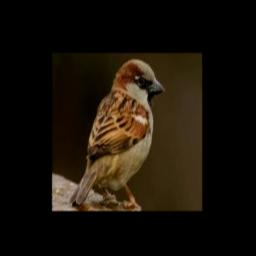Sparrow: (69, 59, 166, 208)
